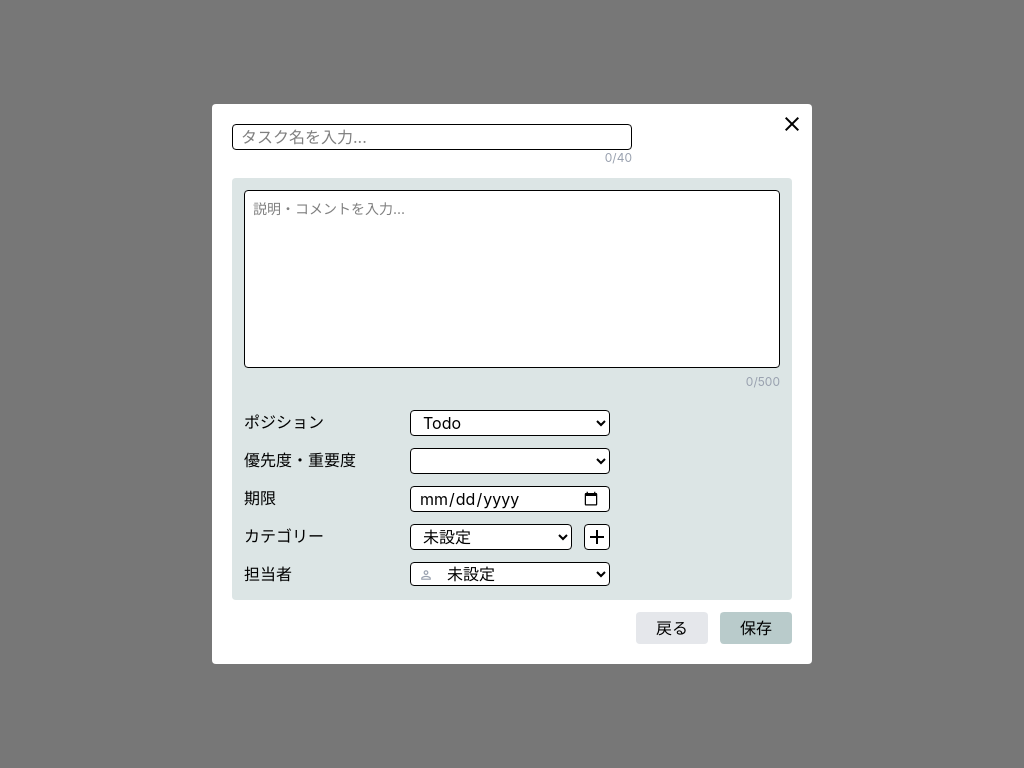
Test: TaskModal（新規） › カテゴリー追加ボタンで CategoryModal を開く
This screenshot has width=1024, height=768.
Click the button "add" in the row of "カテゴリー".
click(597, 537)  # box [584,524,610,550]
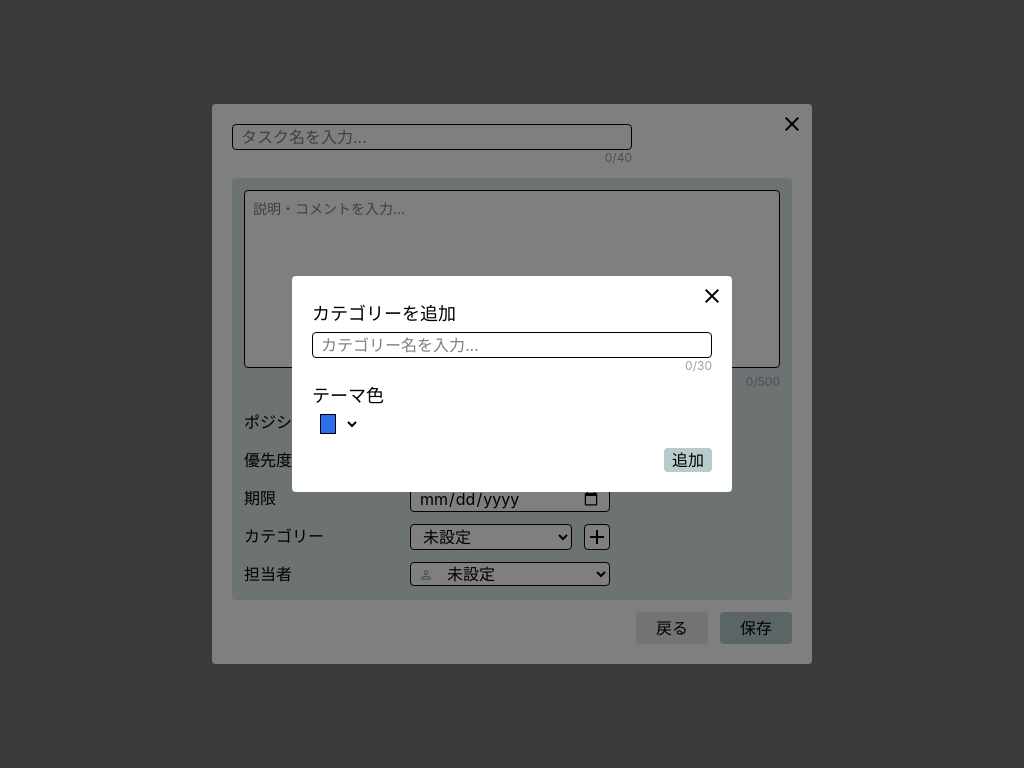
Expected: the text "カテゴリーを追加" is shown, [312,303,456,324]
